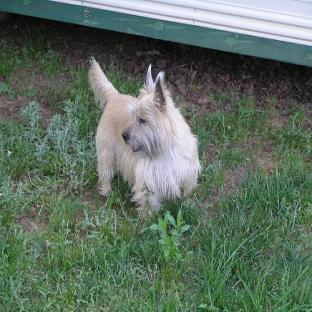Animal: (88, 58, 200, 214)
